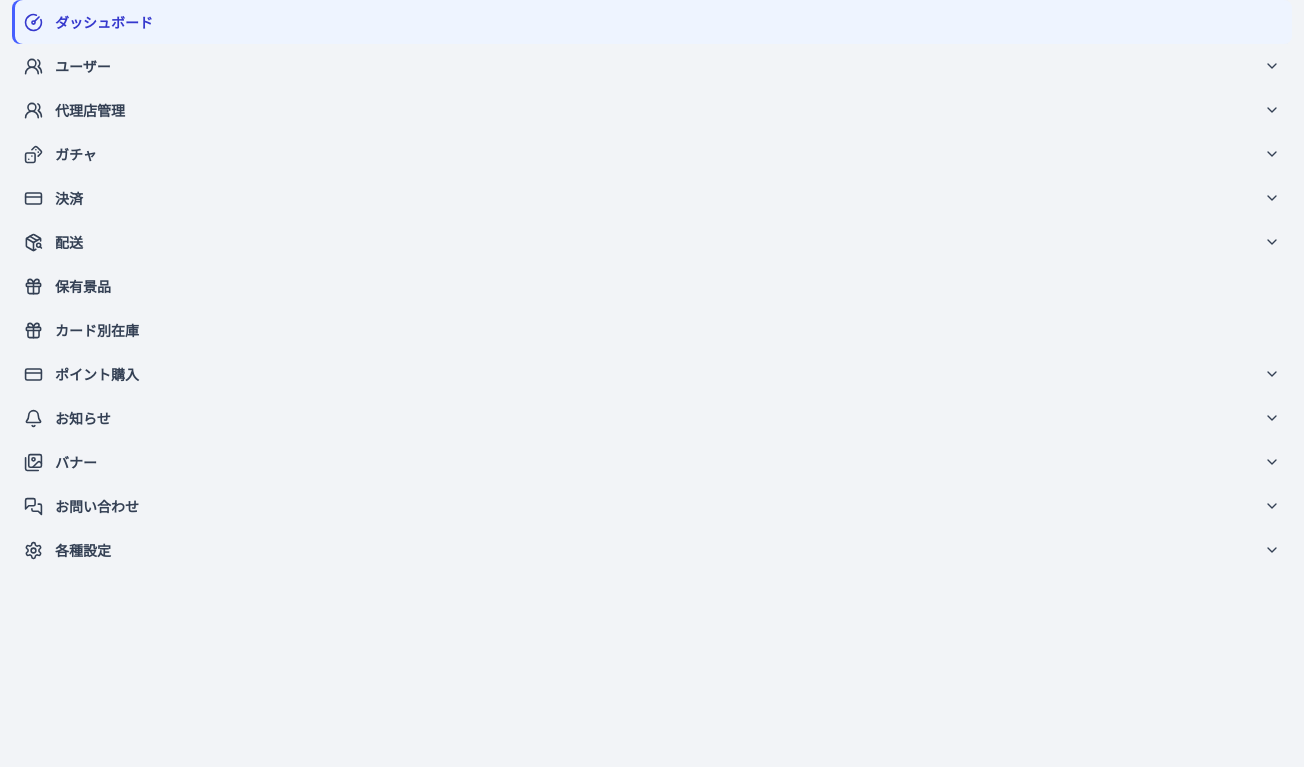
Scenario: Admin sidebar hierarchy › uses one-open accordion behavior and exposes control state
The width and height of the screenshot is (1304, 767).
Click the button "ユーザー": click(83, 66) [12,44,1292,88]
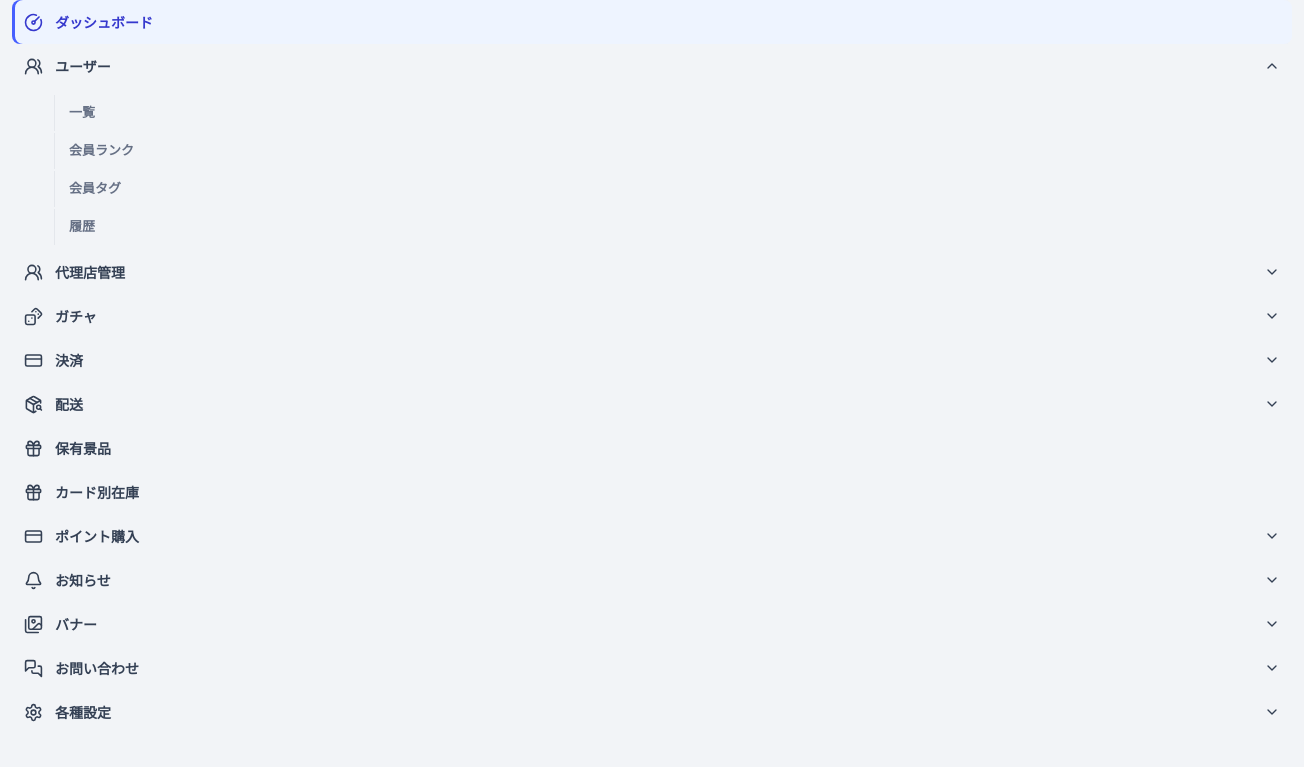
Now the button "ユーザー" is expanded, box [12,44,1292,88]
Click the button "ガチャ": click(76, 316) [12,294,1292,338]
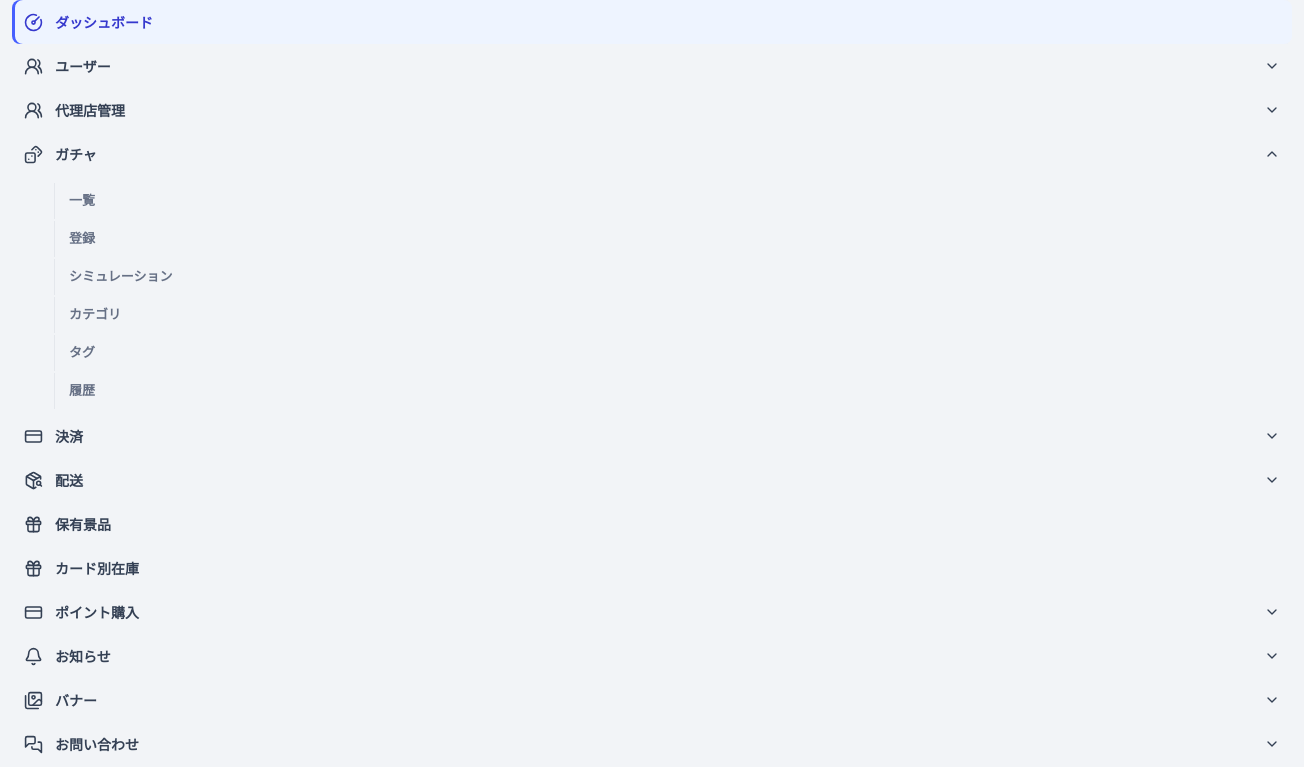
Now the button "ユーザー" is collapsed, box [12,44,1292,88]
Now the button "ガチャ" is expanded
Click the button "ガチャ": click(76, 154) [12,132,1292,176]
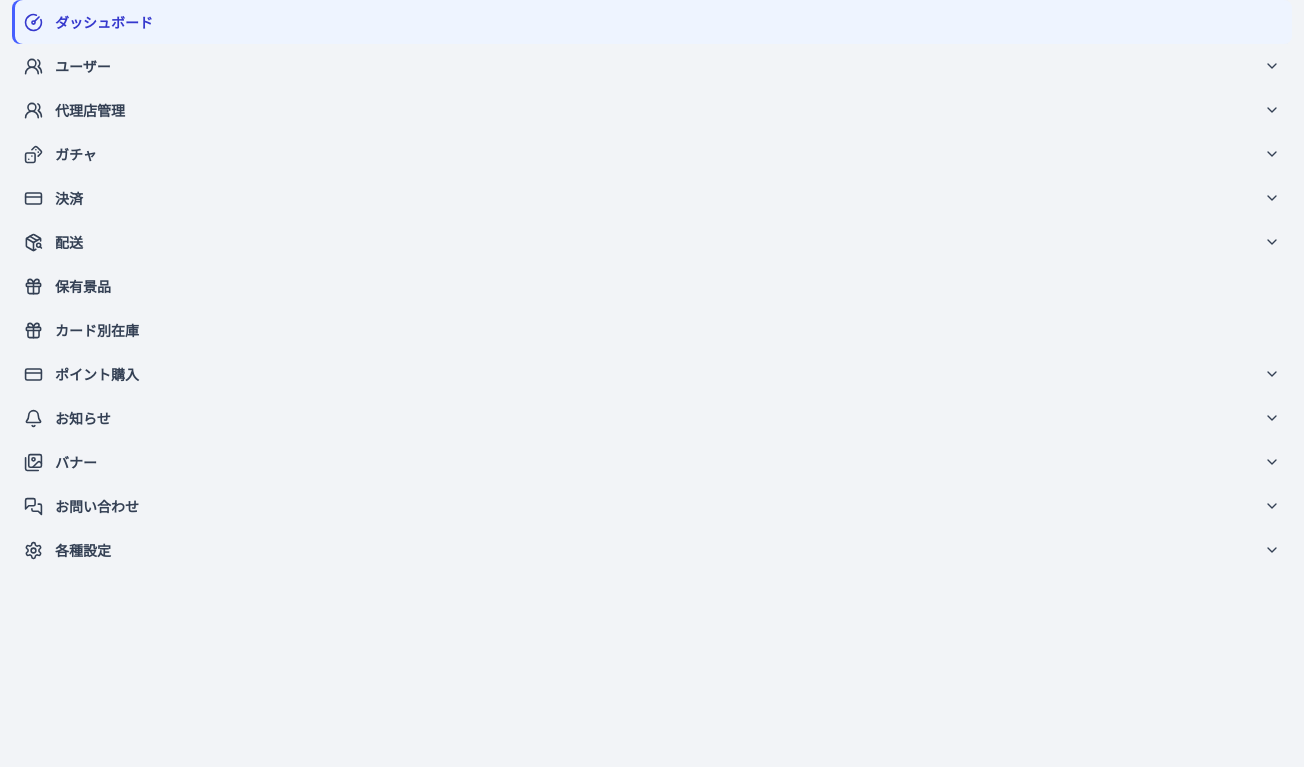
Now the button "ガチャ" is collapsed, box [12,132,1292,176]
